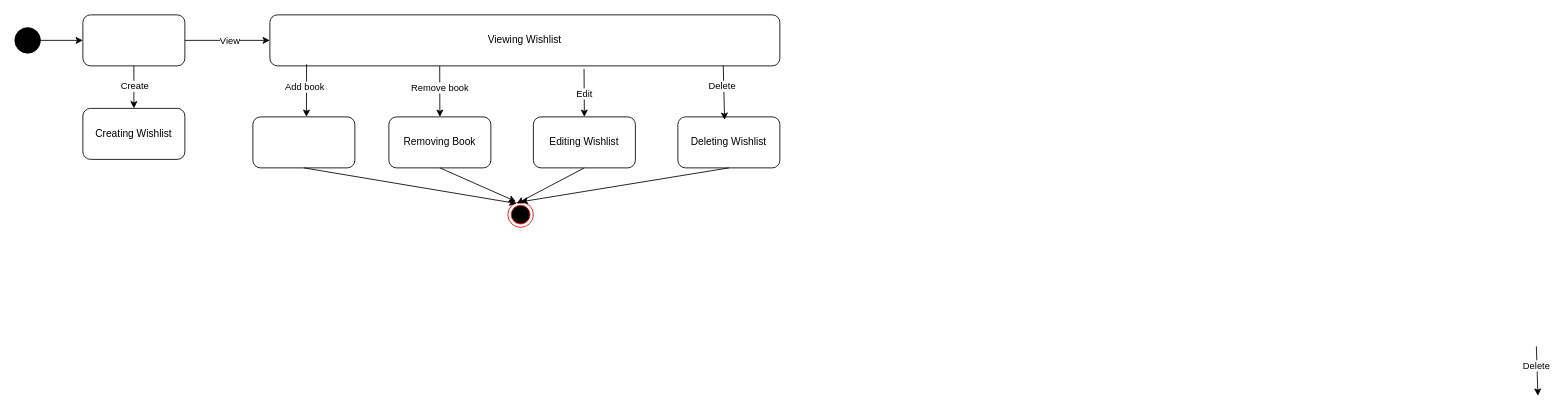
This 1565x418 diagram has some shape labels left out. Each missing label, with the box of its shape:
Adding Book: (252, 116, 355, 168)
Idle: (82, 14, 185, 66)
